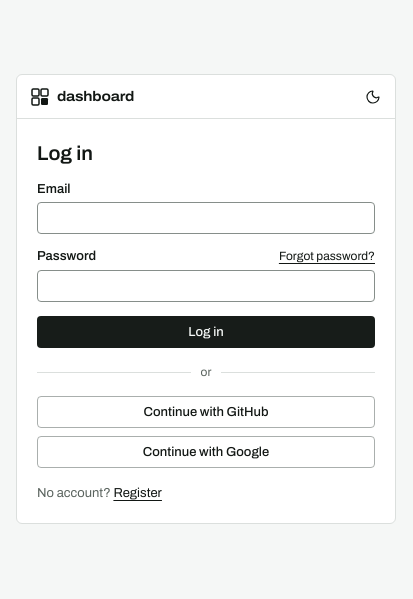
LoginPage › offers a new confirmation link when the email is not confirmed
This screenshot has width=413, height=599.
Type "unconfirmed@example.com" into the field labelled "Email". click: (206, 218)
box: [37,202,375,234]
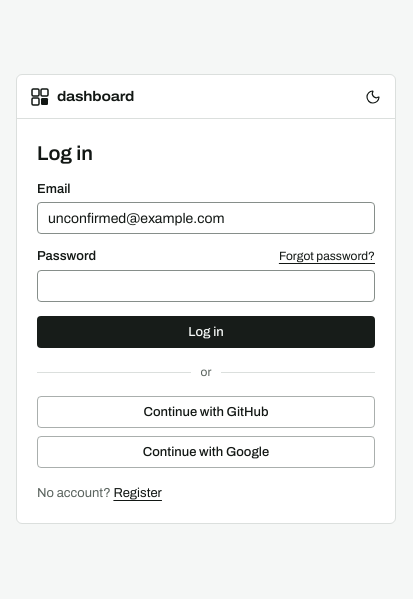
Type "correct-horse-1!" into the password field labelled "Password". click: (206, 286)
box: [37,270,375,302]
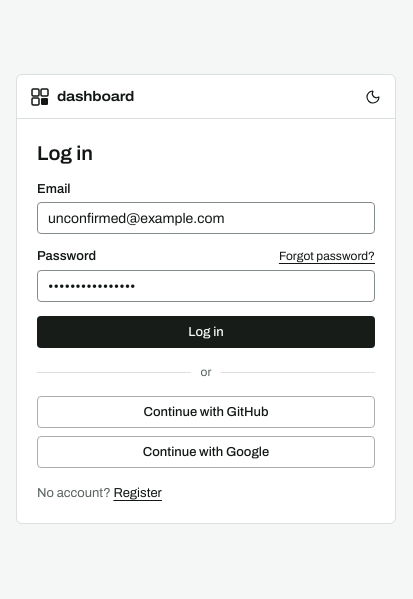
Click the button "Log in". click: (206, 332)
box: [37,316,375,348]
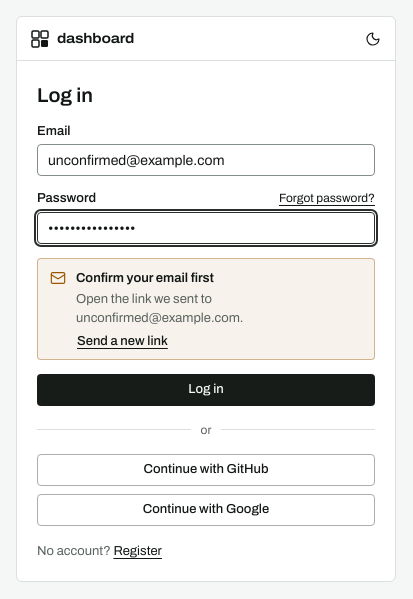
Expected: the message shows "Confirm your email first", [76,271,214,285]
Expected: the message shows "Open the link we sent to unconfirmed@example.com.", [37,258,375,360]
Click the button "Send a new link". click: (122, 341)
box: [76,334,169,349]
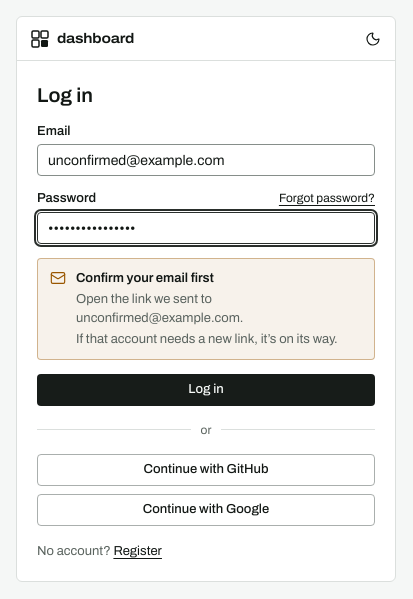
Expected: the text "If that account needs a new link, it’s on its way." is shown, [76,330,362,349]
Expected: the button "Send a new link" is gone
